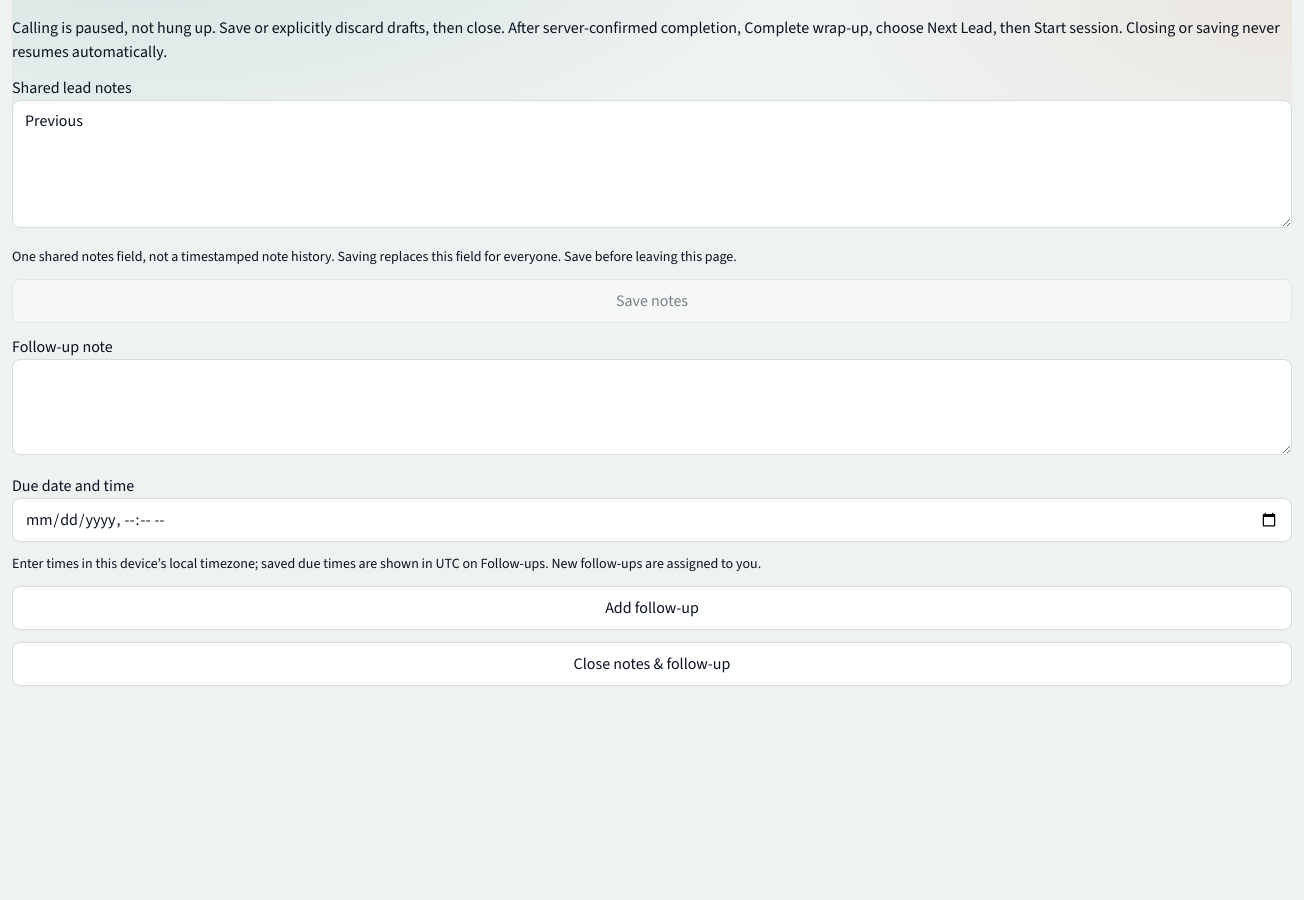
Test: a pending notes save times out without losing its draft or retrying
Replace the text in the text box labelled "Shared lead notes" with "Retain this draft" at (652, 164), box top-left (12, 100), bottom-right (1292, 228)
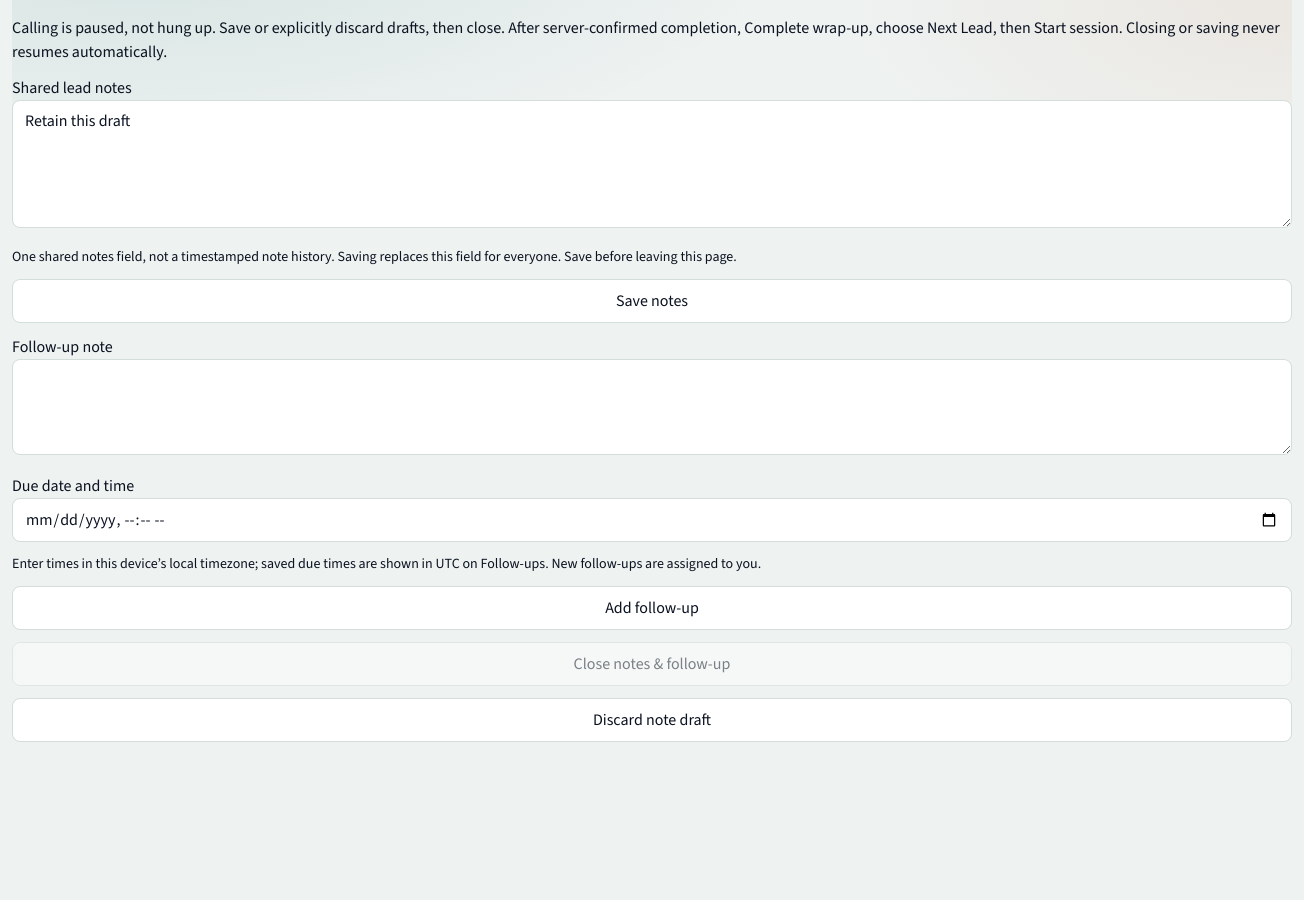
Click the button "Save notes" at (652, 301), box top-left (12, 279), bottom-right (1292, 323)
Wait 13000 ms
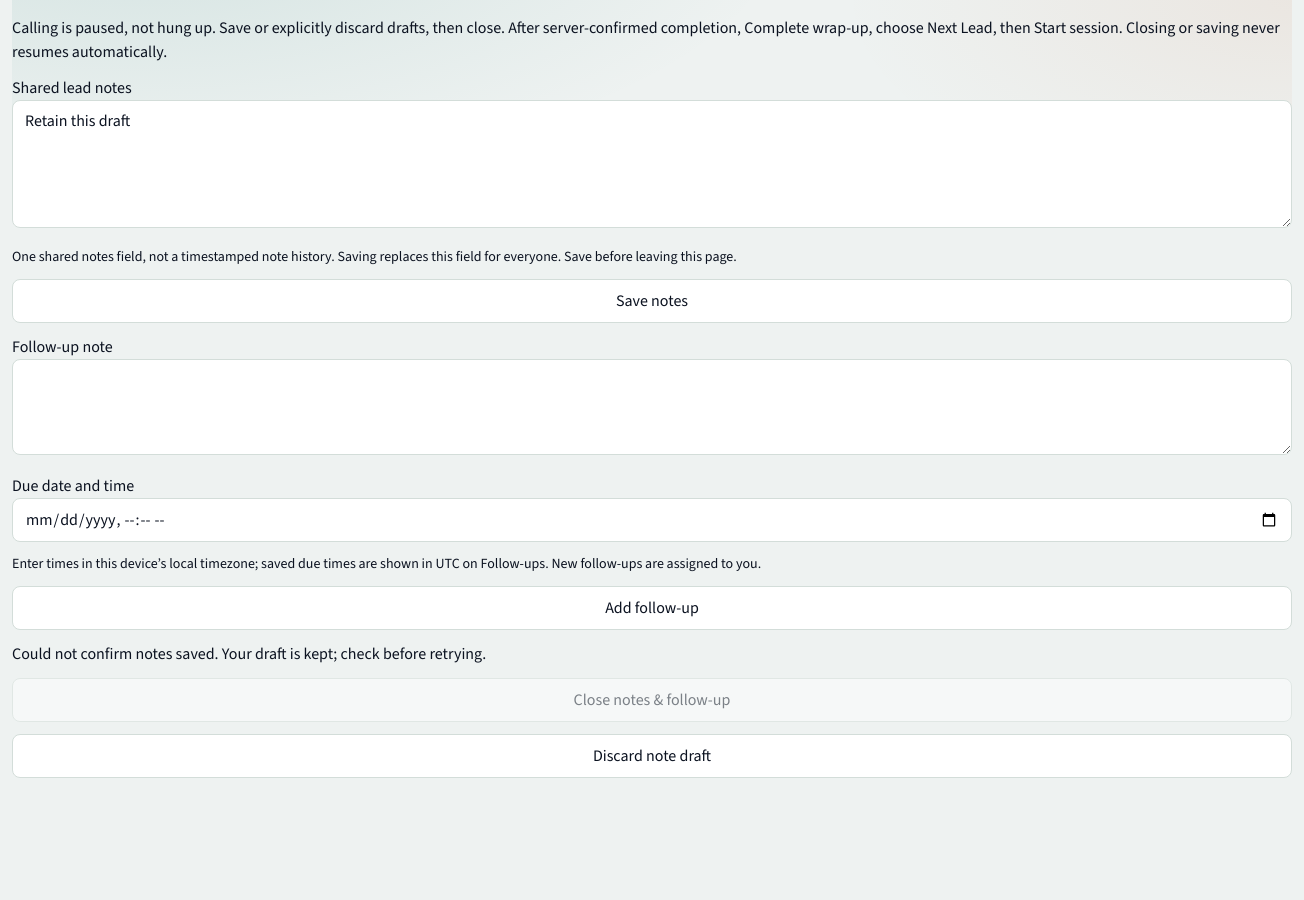
Check: the button "Close notes & follow-up" is disabled, box top-left (12, 678), bottom-right (1292, 722)
Check: the message shows "Could not confirm", box top-left (12, 643), bottom-right (486, 664)
